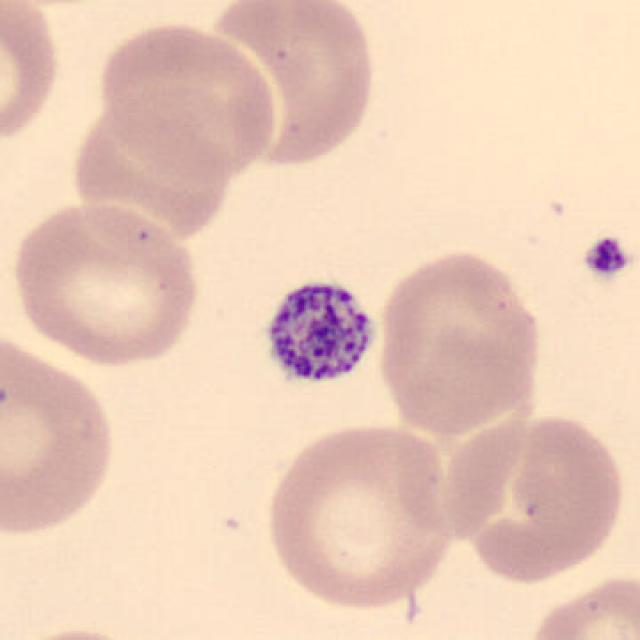Platelets: (256, 273, 380, 395), (578, 233, 633, 284)
RBC: (261, 418, 455, 612), (370, 243, 549, 439), (6, 198, 204, 370), (203, 0, 382, 173), (94, 18, 281, 182), (469, 407, 631, 582), (0, 324, 123, 542), (0, 0, 66, 150), (521, 569, 640, 640), (4, 622, 160, 640)
